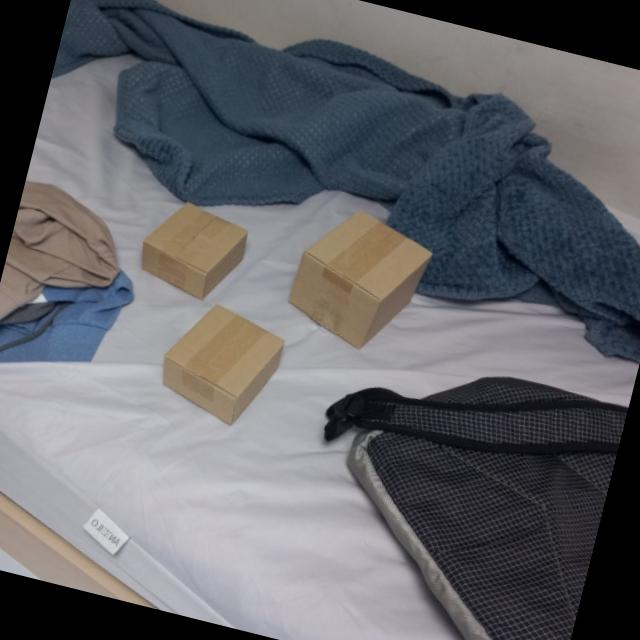box: (271, 190, 447, 366), (145, 288, 298, 441), (123, 188, 259, 310)
